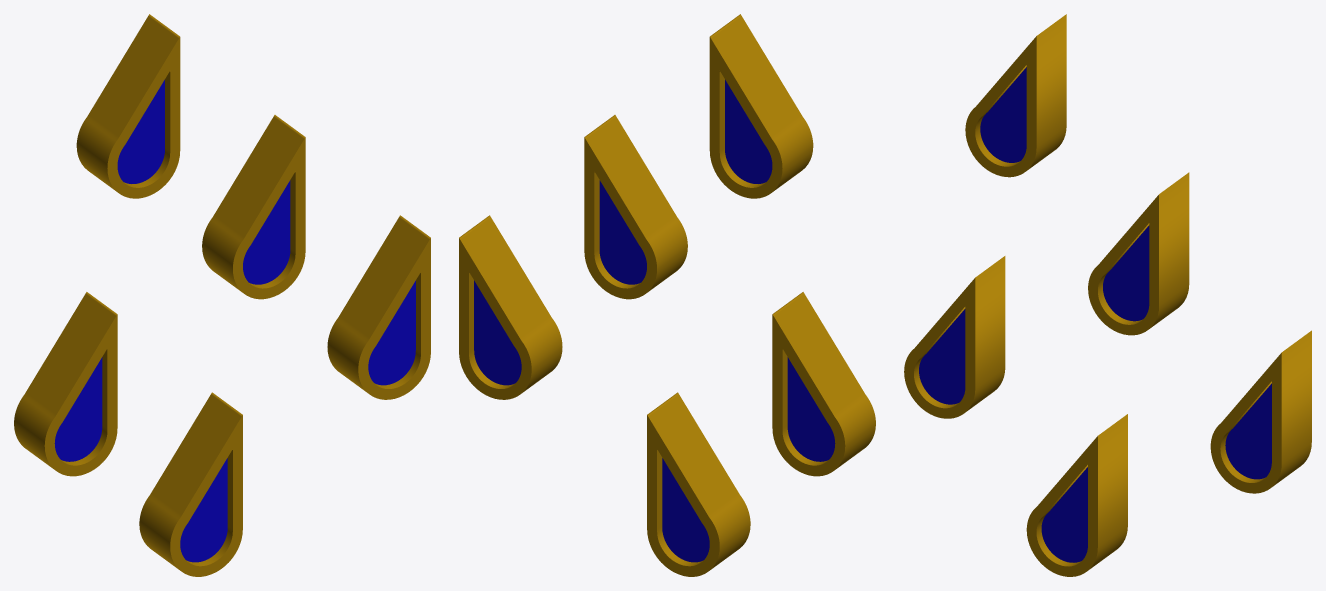
The model's file is drizzle.glb.
3 renders of one model, left to right at view 1: azimuth 30°, elevation 25°; view 2: azimuth 150°, elevation 25°; view 3: azimuth 330°, elevation 25°, orthographic. The views are drawn at different scales.
Visible parts, largest first — view 1: drizzle-v2; view 2: drizzle-v2; view 3: drizzle-v2.
Part boxes in pixels (x1,y1,x2,y2): drizzle-v2: (14, 14, 430, 576); drizzle-v2: (459, 14, 875, 576); drizzle-v2: (904, 14, 1311, 576).
Bounding box in the file's own units: 1.29 × 1.74 × 0.1774.
